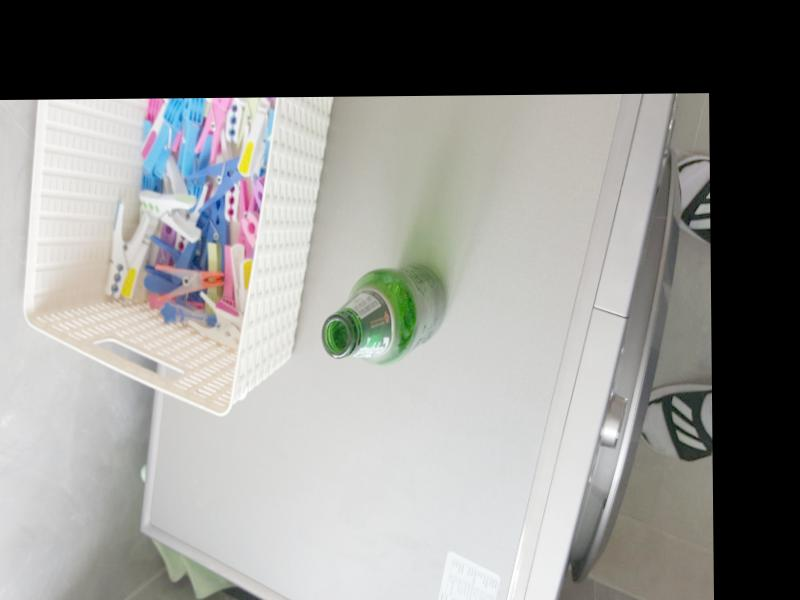Beer: (322, 265, 449, 359)
